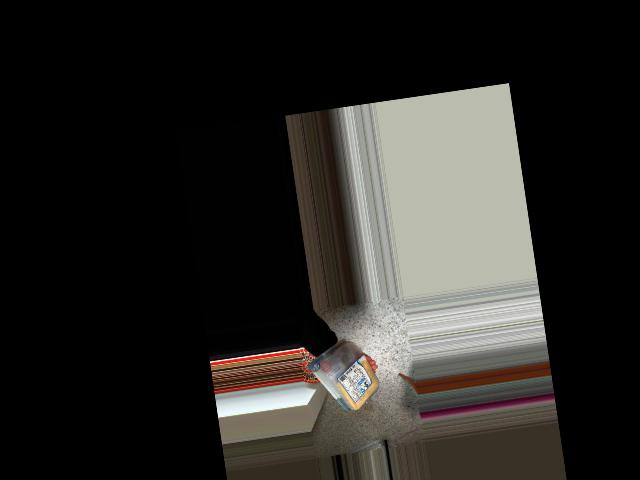cheese: (309, 335, 383, 420)
